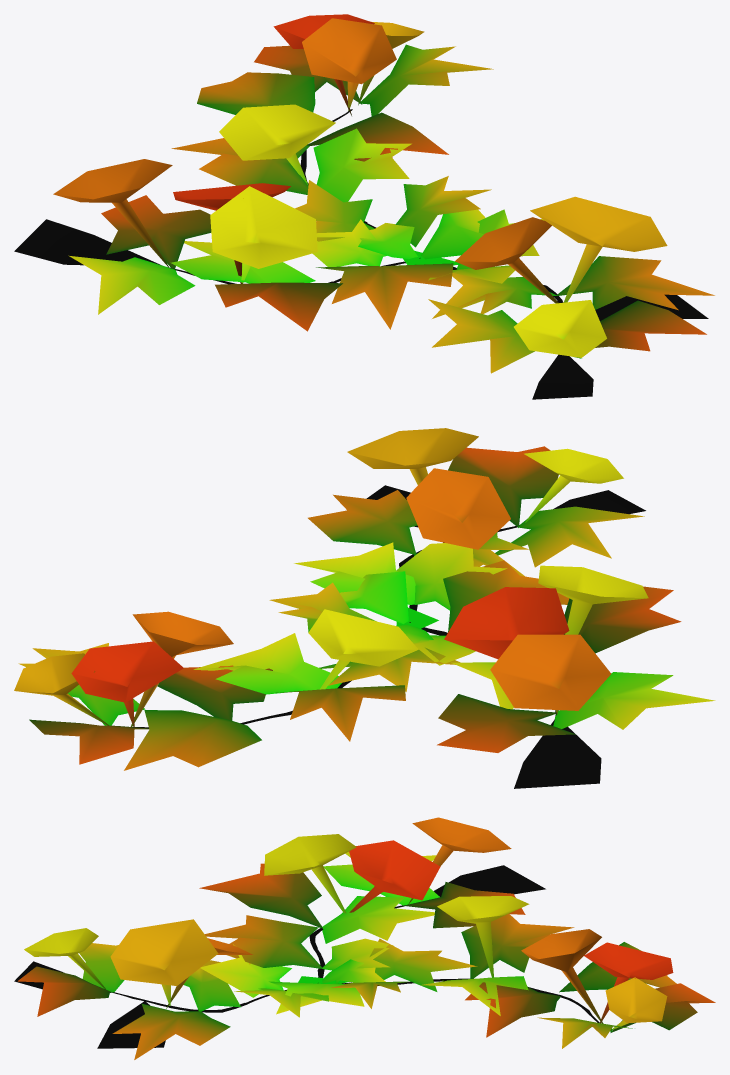
The model's file is Mile-a-minute Vine_LOD0_Var2_sfqns.fbx.
3 renders of one model, top to bottom at view 1: azimuth 30°, elevation 25°; view 2: azimuth 150°, elevation 25°; view 3: azimuth 270°, elevation 25°, orthographic. The views are drawn at different scales.
Parts seen in each view (by area): view 1: _6878_Var2_LOD0; view 2: _6878_Var2_LOD0; view 3: _6878_Var2_LOD0.
Boxes of the visible parts, left/top/right/bottom form: _6878_Var2_LOD0: left=14, top=14, right=714, bottom=399; _6878_Var2_LOD0: left=14, top=428, right=715, bottom=788; _6878_Var2_LOD0: left=14, top=817, right=715, bottom=1059.
Bounding box in the file's own units: 34.15 × 6.31 × 46.97.
